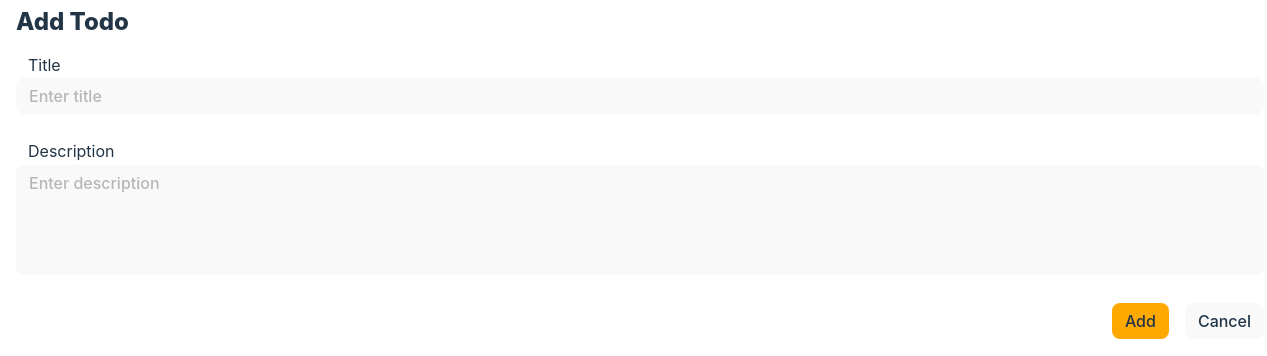
Scenario: <TodoForm /> › Title input validation › has required
Click the button "Add": (1140, 321) left=1112, top=303, right=1169, bottom=339
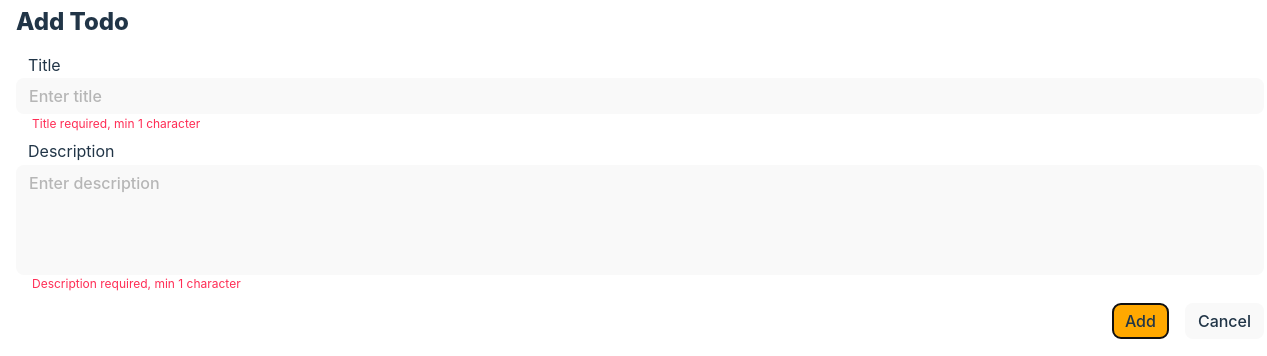
expect the text "Title required, min 1 character" is shown: met, box left=32, top=117, right=200, bottom=130
